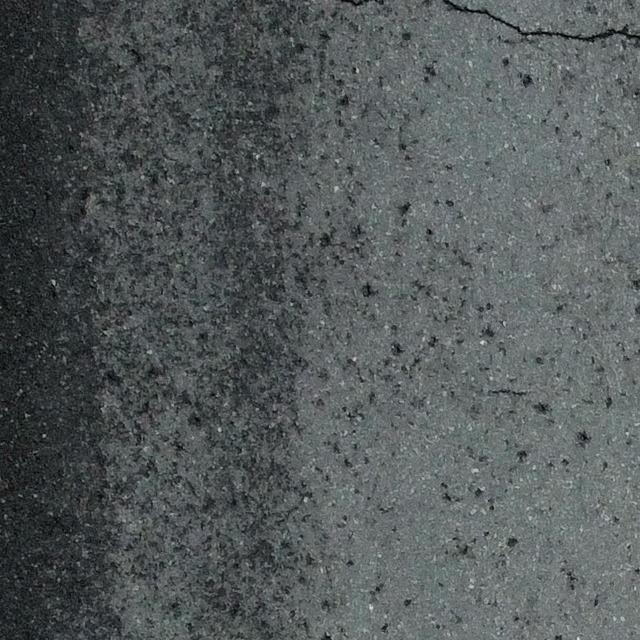TransverseCrack: (442, 1, 640, 43)
